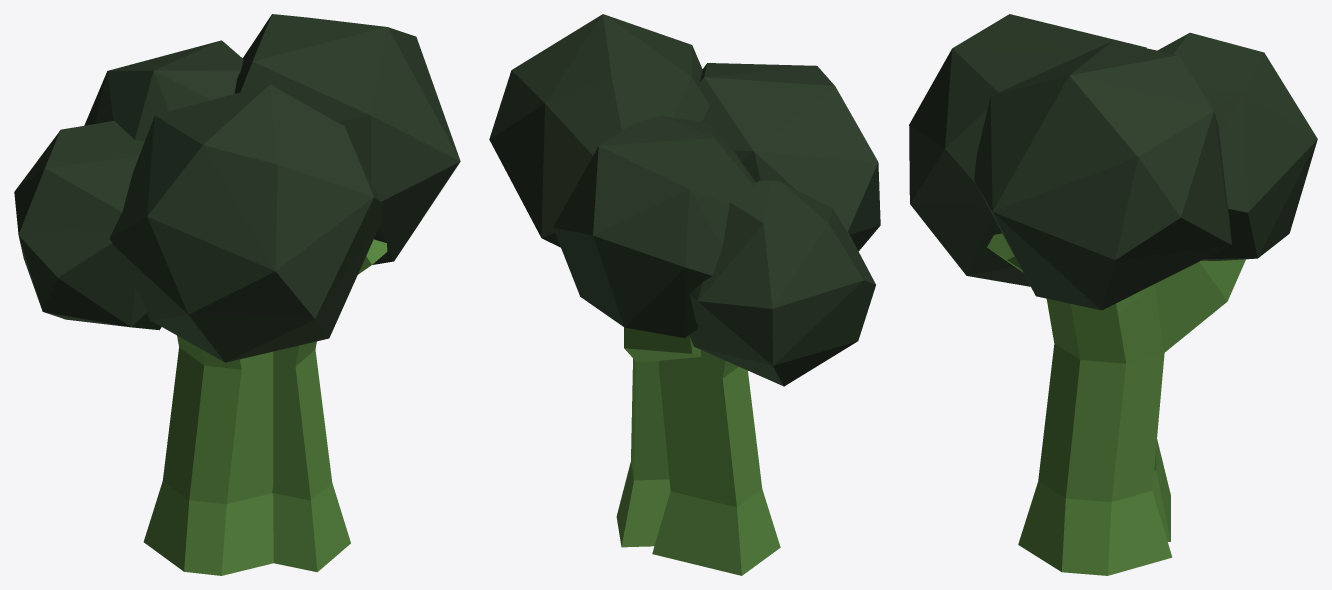
The model's file is food-Broccoli.glb.
3 views of the same model, side by side, from view 1: azimuth 30°, elevation 25°; view 2: azimuth 150°, elevation 25°; view 3: azimuth 270°, elevation 25° (orthographic). The views are drawn at different scales.
Visible parts, largest first — view 1: Broccoli; view 2: Broccoli; view 3: Broccoli.
Part boxes in pixels (x1,y1,x2,y2): Broccoli: [14, 14, 460, 575]; Broccoli: [489, 14, 880, 575]; Broccoli: [909, 14, 1317, 575].
Bounding box in the file's own units: 0.7515 × 0.8996 × 0.6444.
